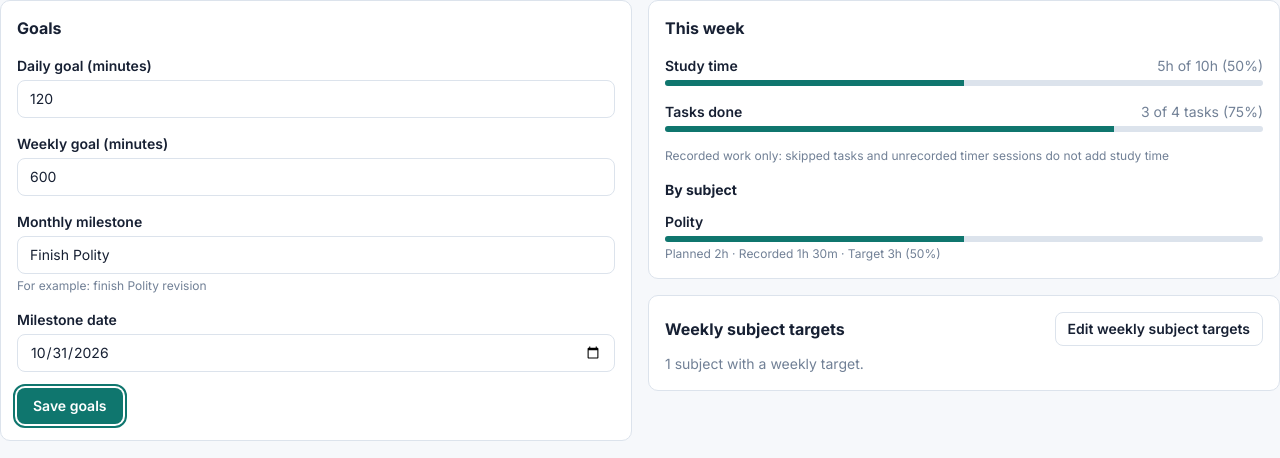
Test: GoalsView › shows a generic error on network failure
Click the button "Save goals": click(70, 406) top-left (17, 388), bottom-right (122, 424)
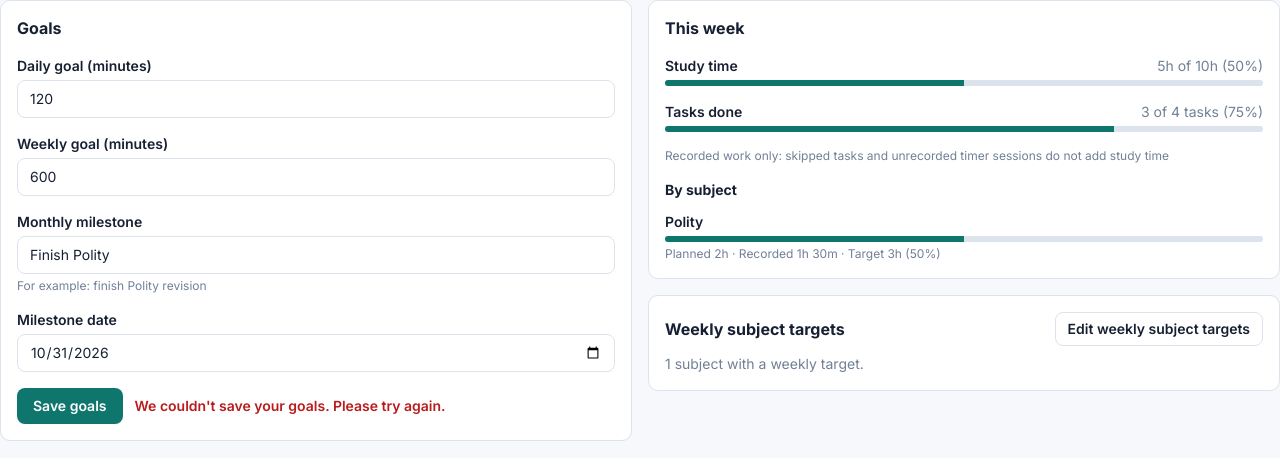
Check: the text "We couldn't save your goals. Please try again." is shown, box top-left (134, 396), bottom-right (446, 416)
